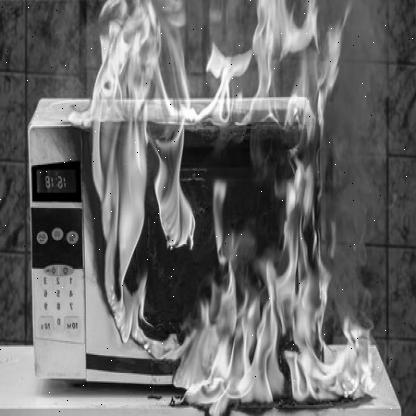fire: (70, 4, 379, 416)
